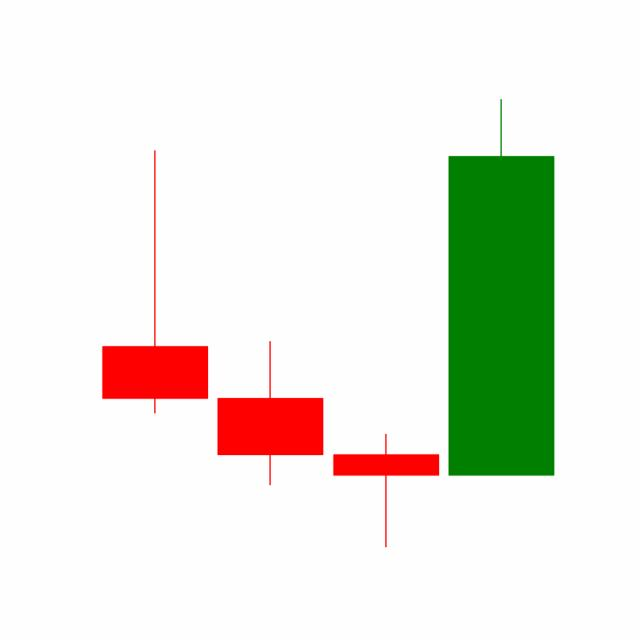Dragonfly Doji: (328, 432, 444, 548)
